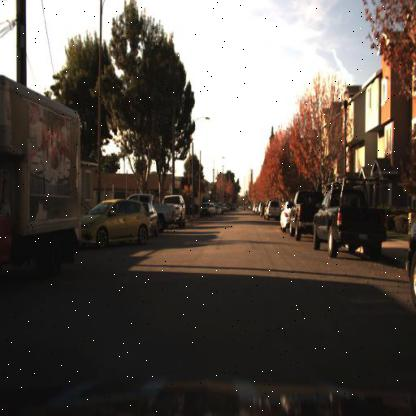car: (310, 166, 390, 270), (310, 177, 389, 257), (77, 193, 150, 250), (78, 198, 148, 244), (286, 189, 324, 238), (290, 186, 320, 245), (163, 194, 186, 229), (170, 194, 188, 232), (157, 198, 175, 233), (278, 198, 293, 233), (265, 197, 282, 224), (198, 200, 210, 218)
